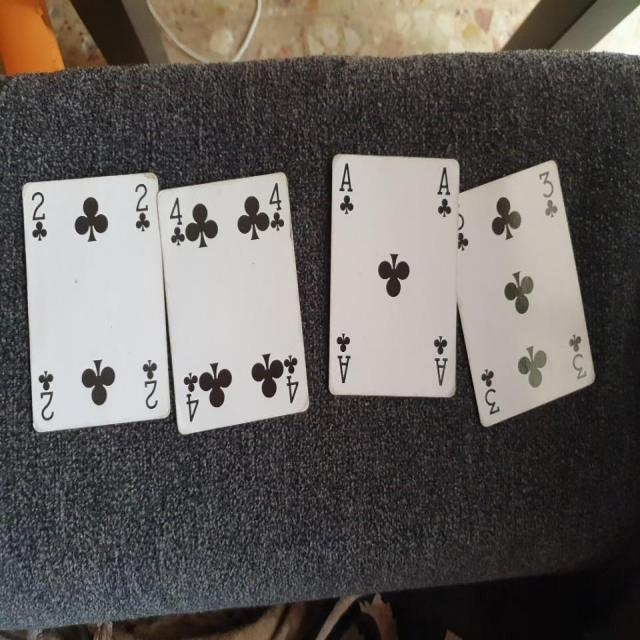2 Trefoils: (22, 172, 172, 434)
3 Trefoils: (456, 156, 598, 430)
4 Trefoils: (157, 172, 310, 434)
A Trefoils: (328, 151, 461, 400)
